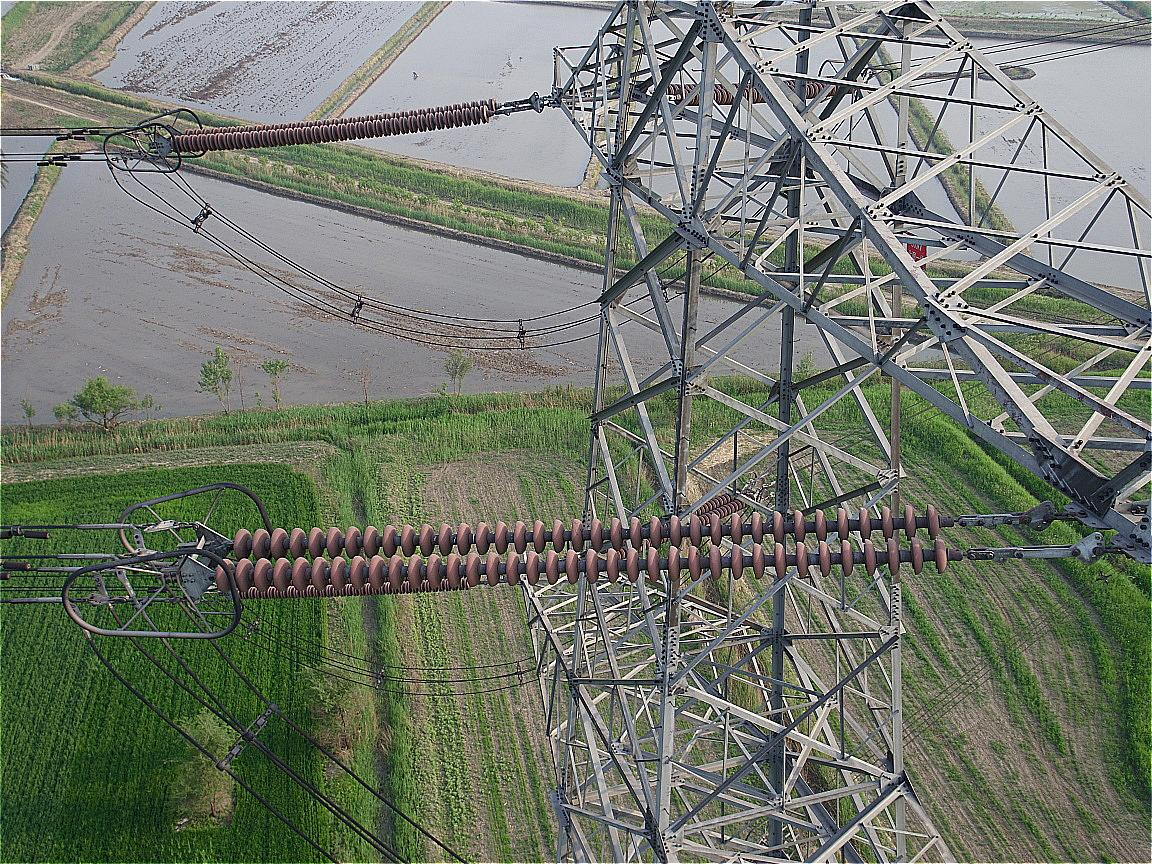insultor1: (222, 497, 983, 605)
insultor2: (156, 94, 503, 152)
